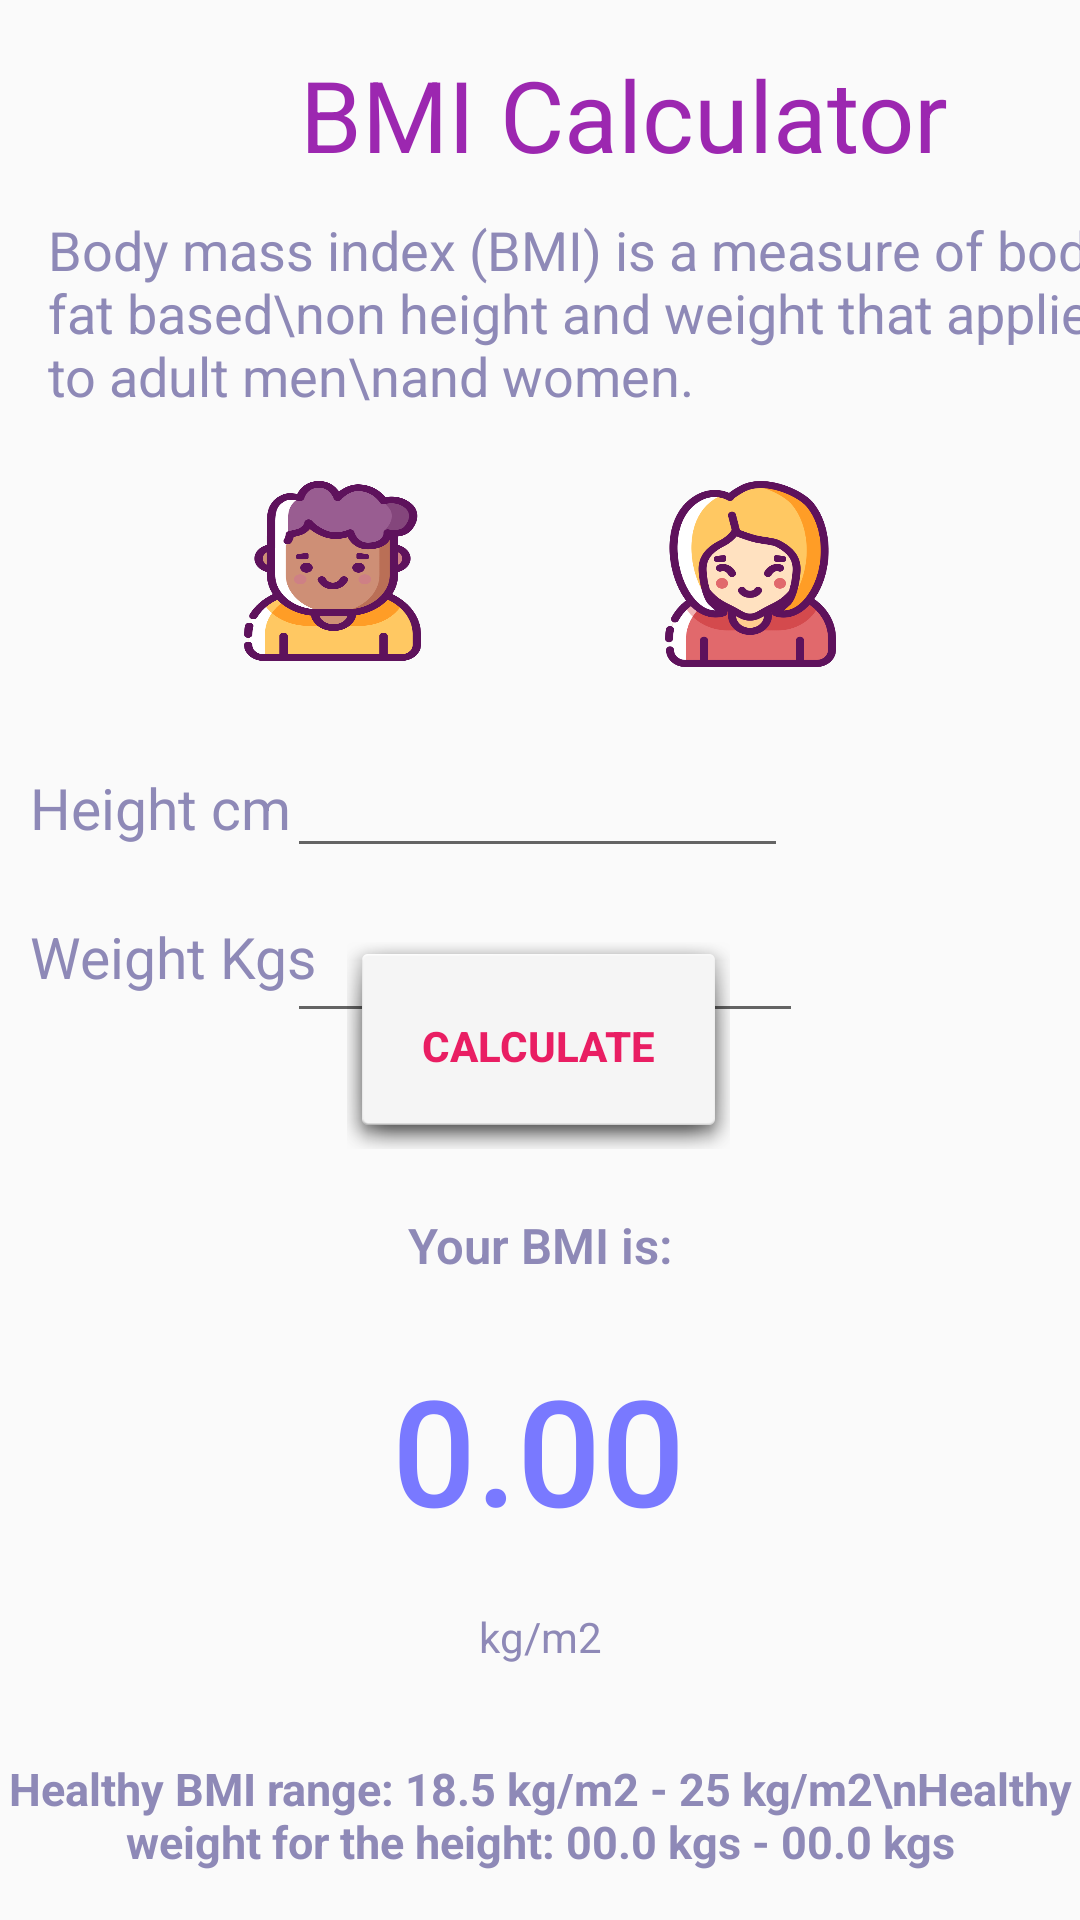

Named icons in this screenshot (1080px×1920px) and their bounding boxes, (x1, y1, x2, y2):
girl: (665, 481, 836, 667)
man: (244, 481, 421, 661)
